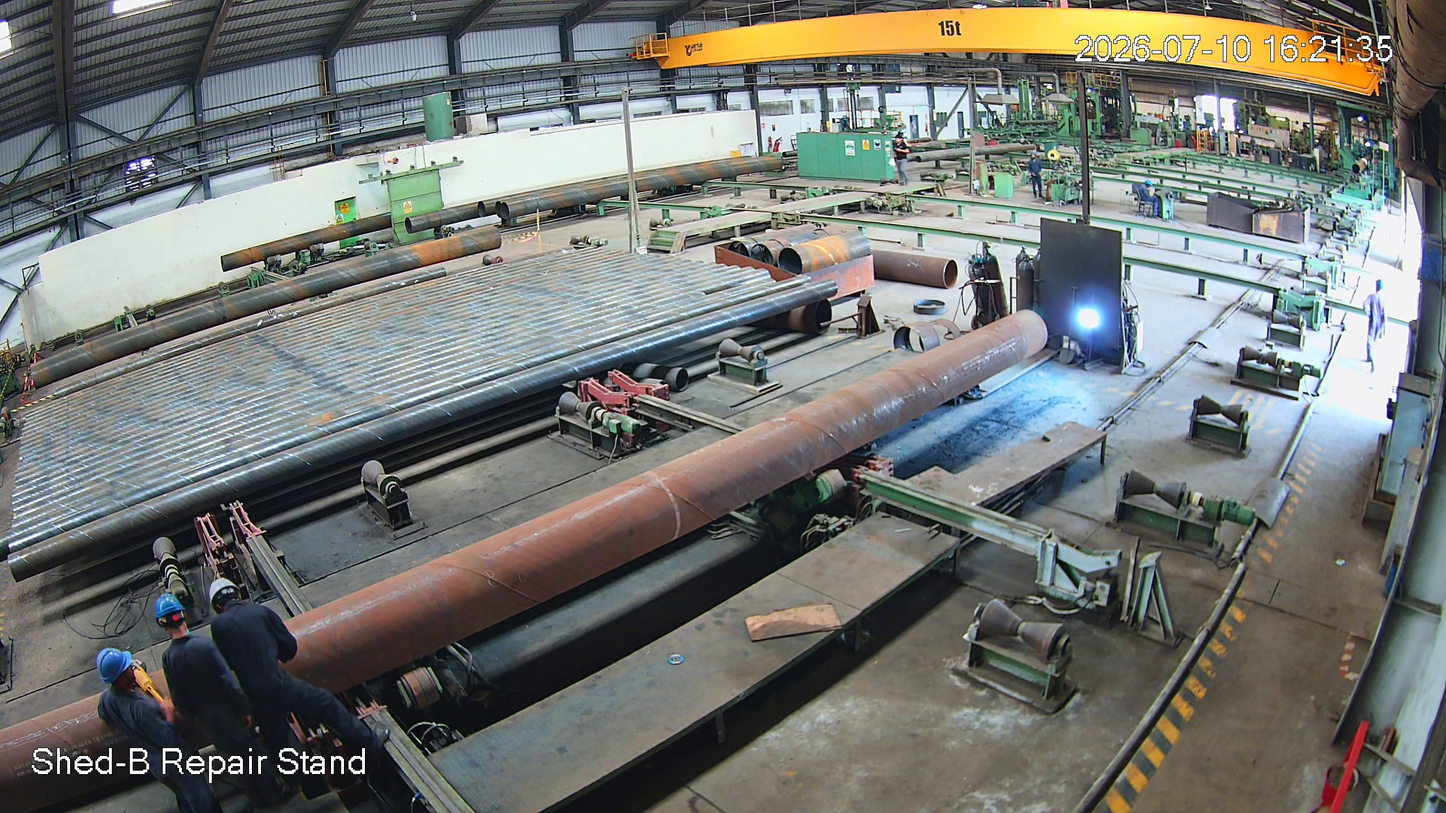Helmet: (148, 585, 194, 651), (204, 568, 261, 621), (94, 644, 143, 700), (1371, 275, 1389, 302)
Person: (207, 571, 360, 813), (152, 590, 238, 813), (95, 648, 185, 813), (1361, 277, 1393, 379)
